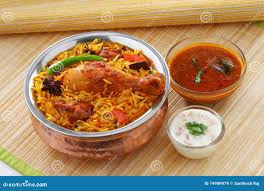briyani: (25, 34, 168, 134)
